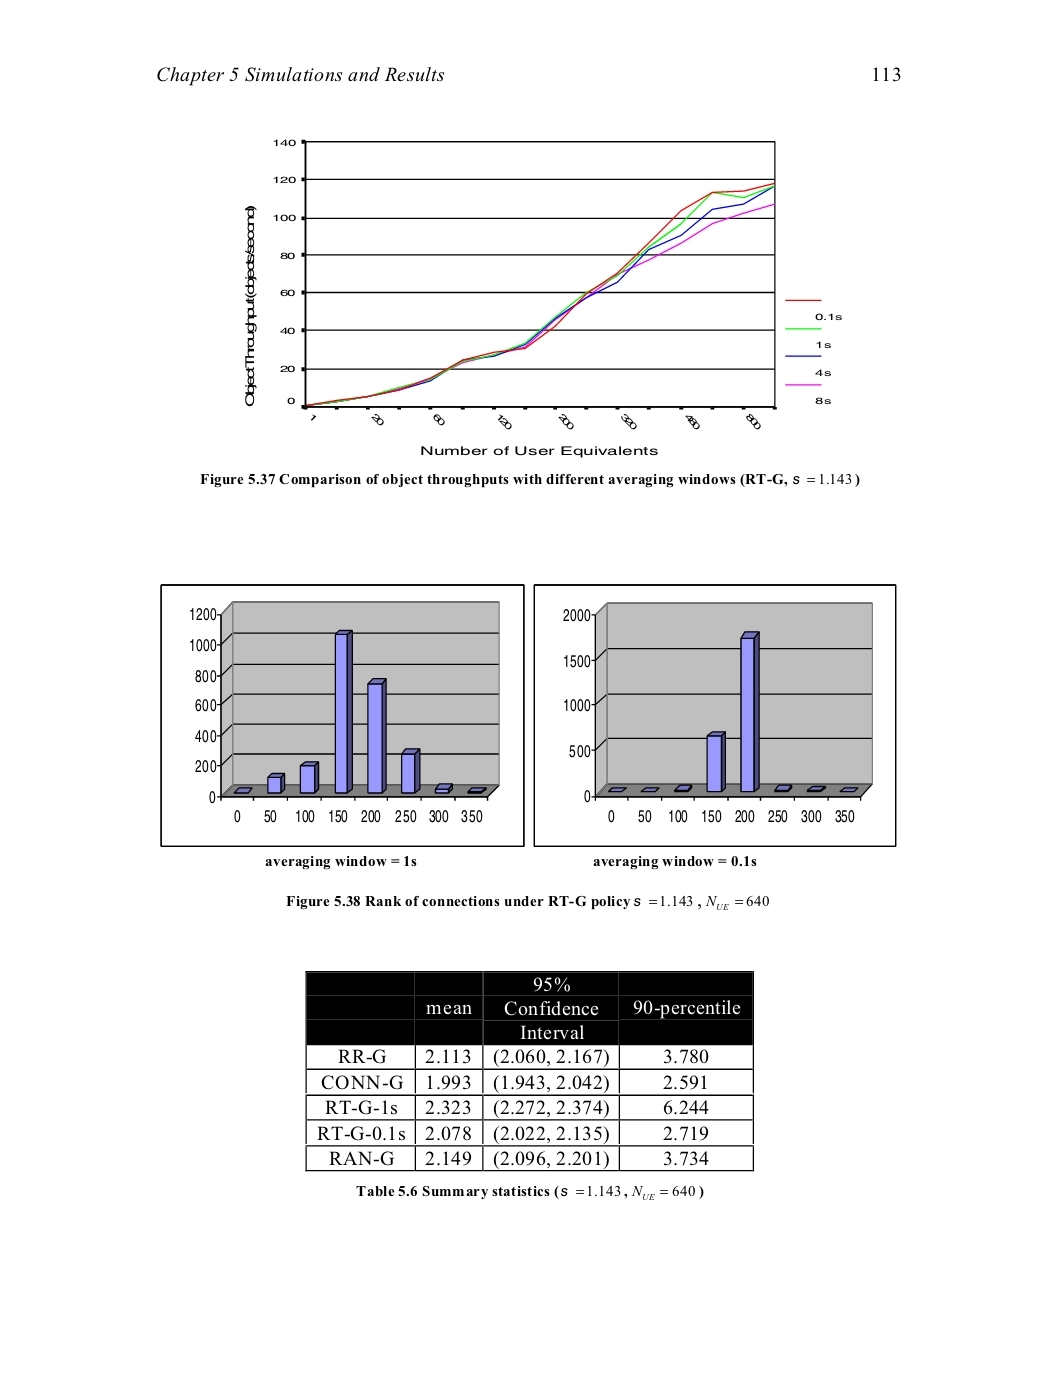Table: (305, 970, 753, 1172)
figure: (245, 138, 841, 410), (160, 584, 524, 869), (533, 584, 896, 869)
